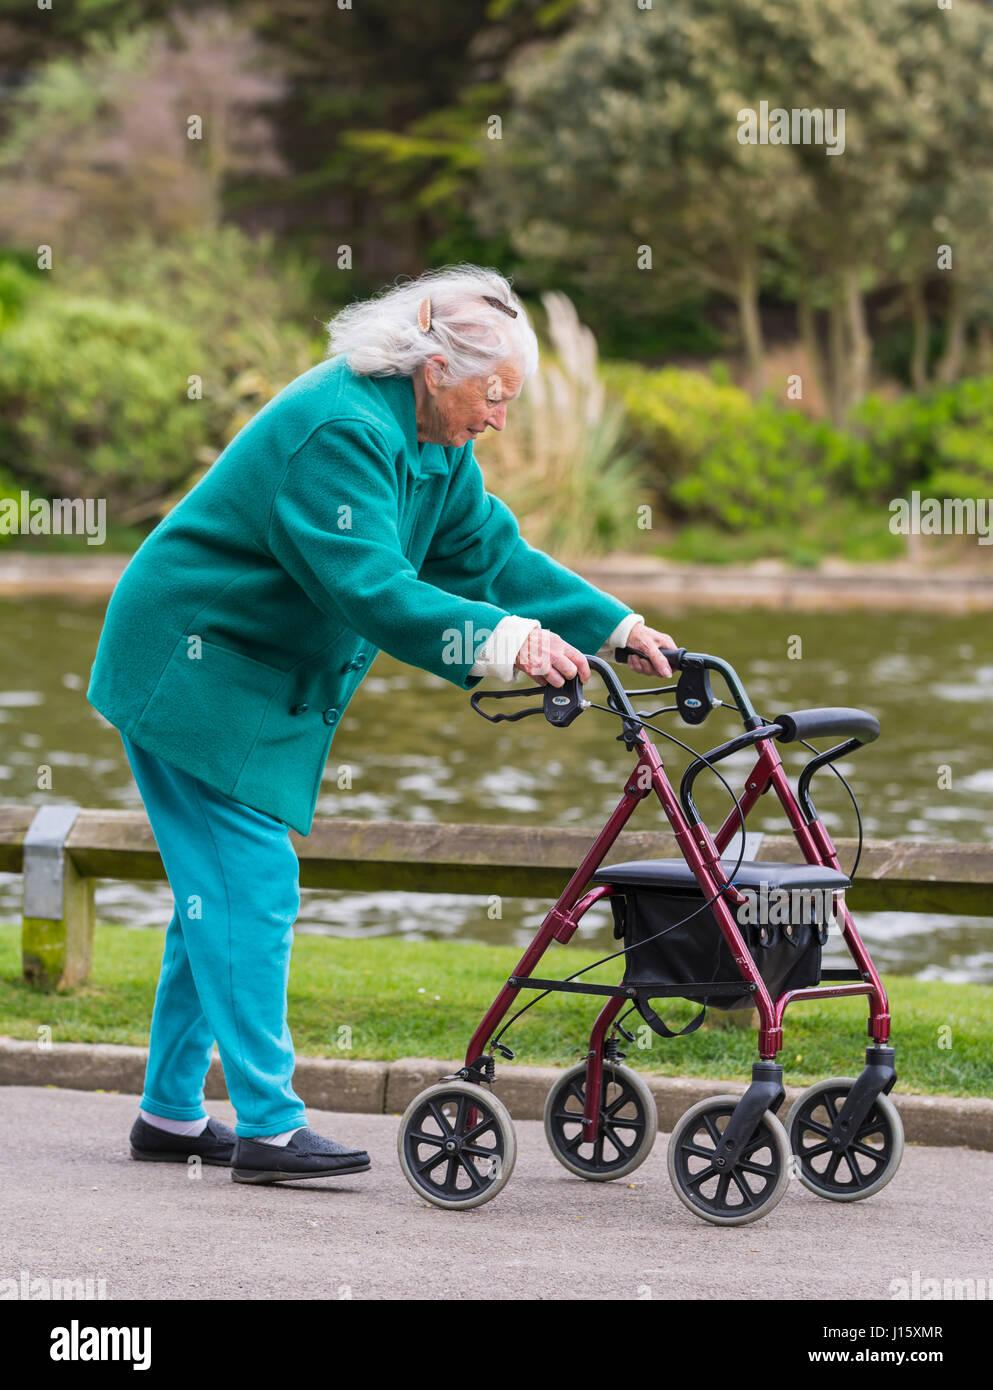walking_frame: (88, 264, 906, 1224)
